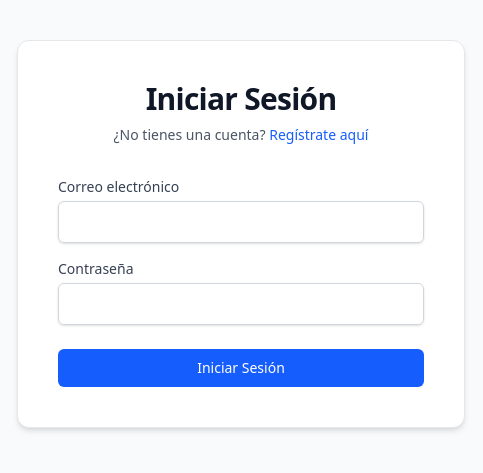
Autenticación - Login › Validaciones de formulario › debería mostrar errores de validación con campos vacíos
The image size is (483, 473).
Click the button with test id "login-submit": (241, 368) [58,349,424,387]
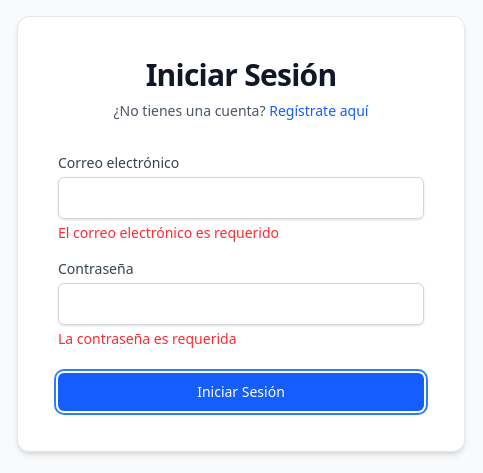
Now the text "El correo electrónico es requerido" is shown, box [58,223,279,242]
Now the text "La contraseña es requerida" is shown, box [58,329,236,348]
